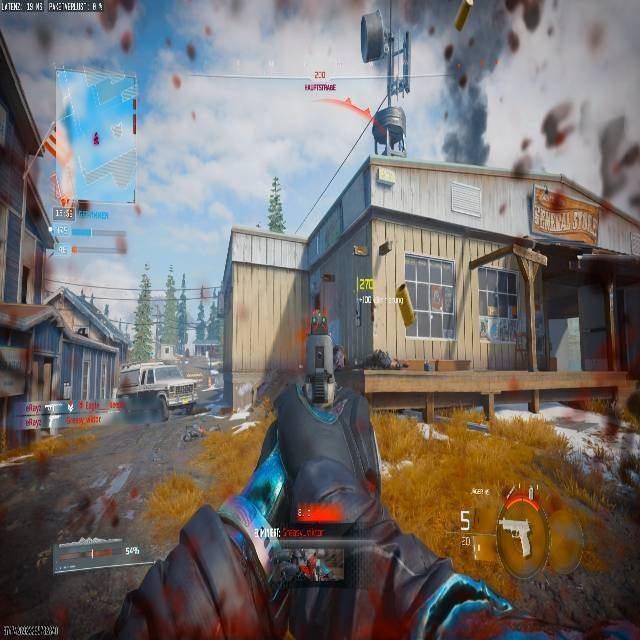head: (541, 98, 578, 149)
player: (509, 97, 639, 215), (334, 344, 345, 370)
